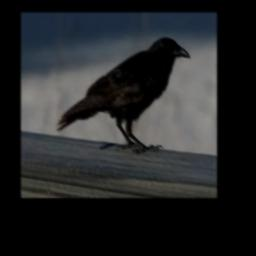Crow: (54, 37, 190, 154)
